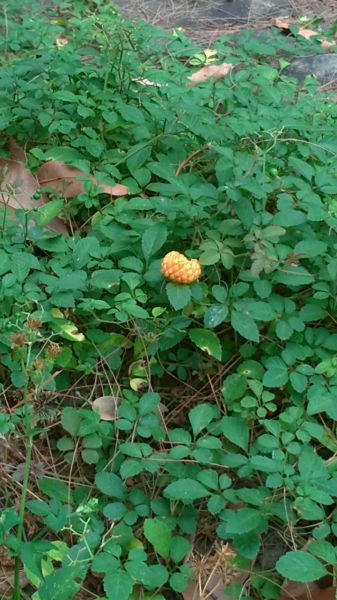eggs: (157, 244, 204, 289)
